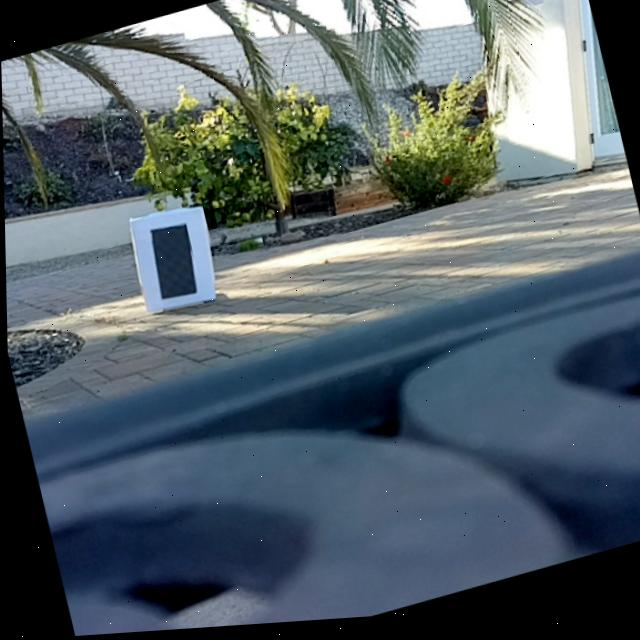led: (143, 220, 201, 306)
